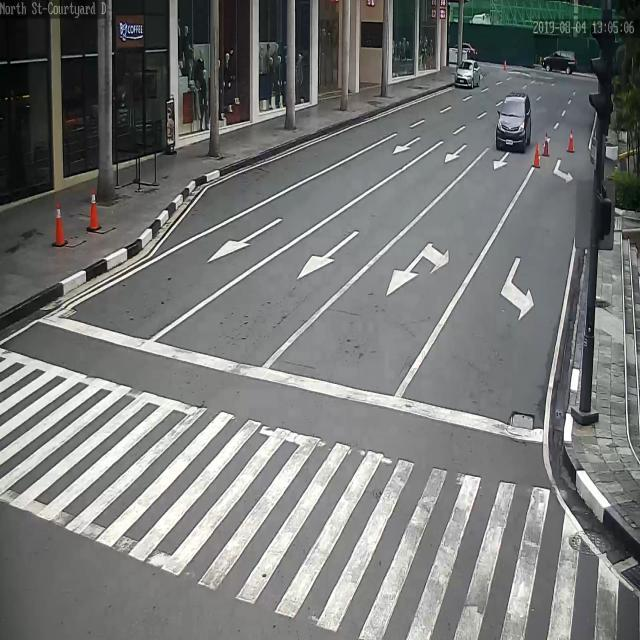car: (497, 93, 534, 151), (455, 60, 482, 89), (543, 52, 578, 74)
